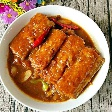hongshaodaiyu: (7, 12, 101, 102)
